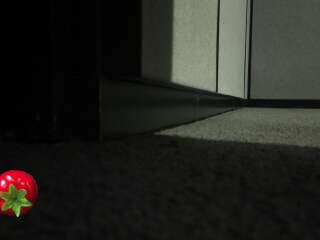Tomato: (0, 168, 40, 219)
